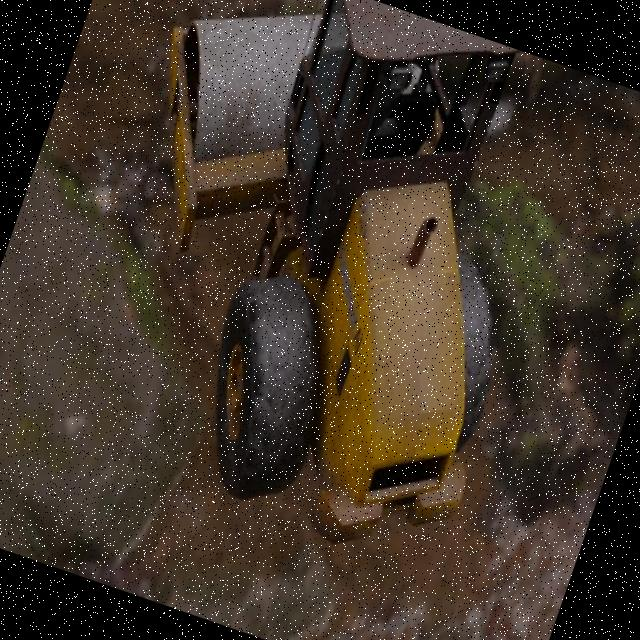Roller: (30, 0, 605, 580)
